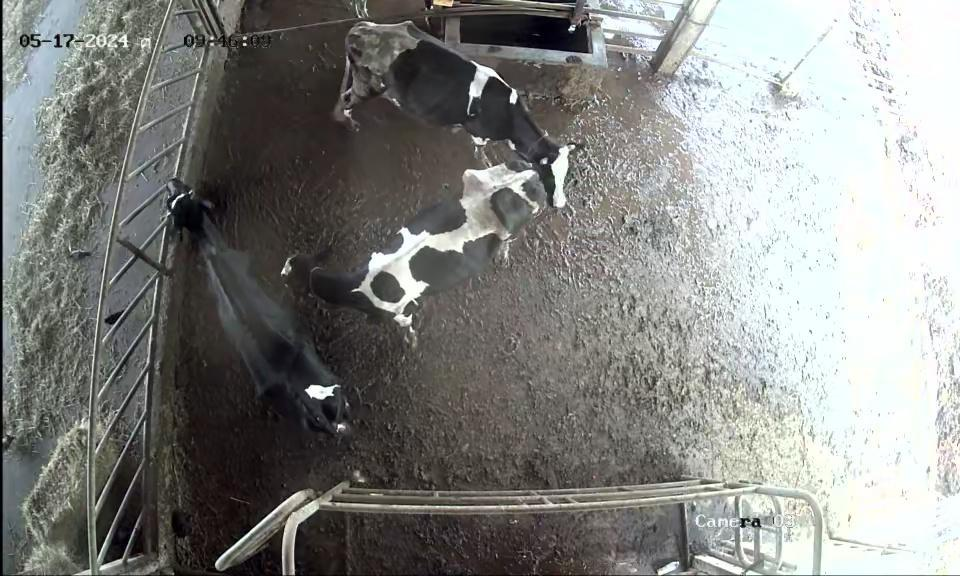stand: (158, 178, 358, 456), (270, 153, 554, 333), (337, 17, 577, 217)
